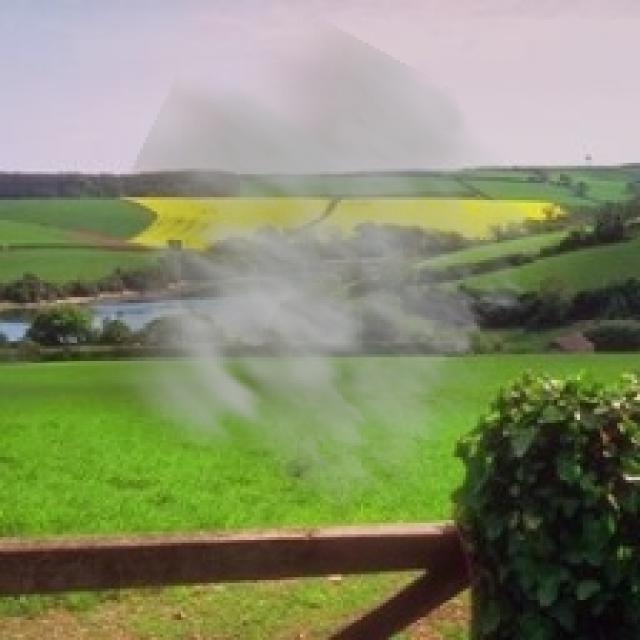smoke: (37, 11, 560, 532)
